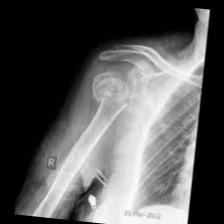comminuted-fracture: (4, 0, 211, 224)
